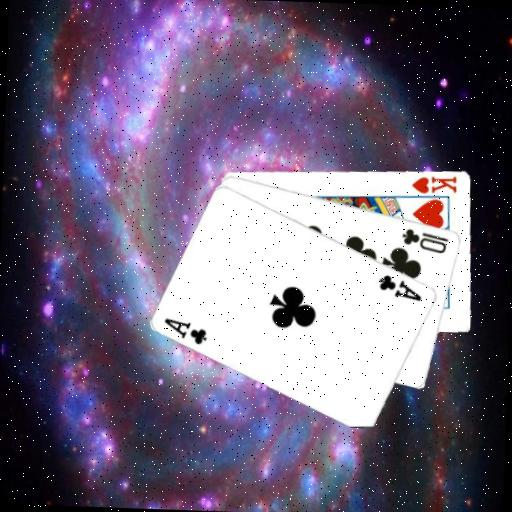10C: (398, 224, 451, 254)
AC: (375, 270, 425, 302), (161, 314, 210, 346)
KH: (408, 171, 458, 196)
